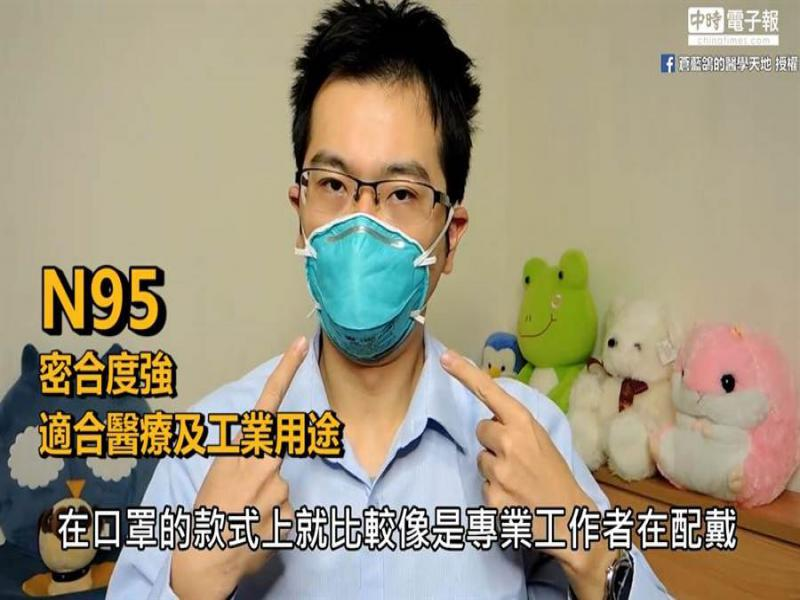good: (300, 148, 446, 361)
